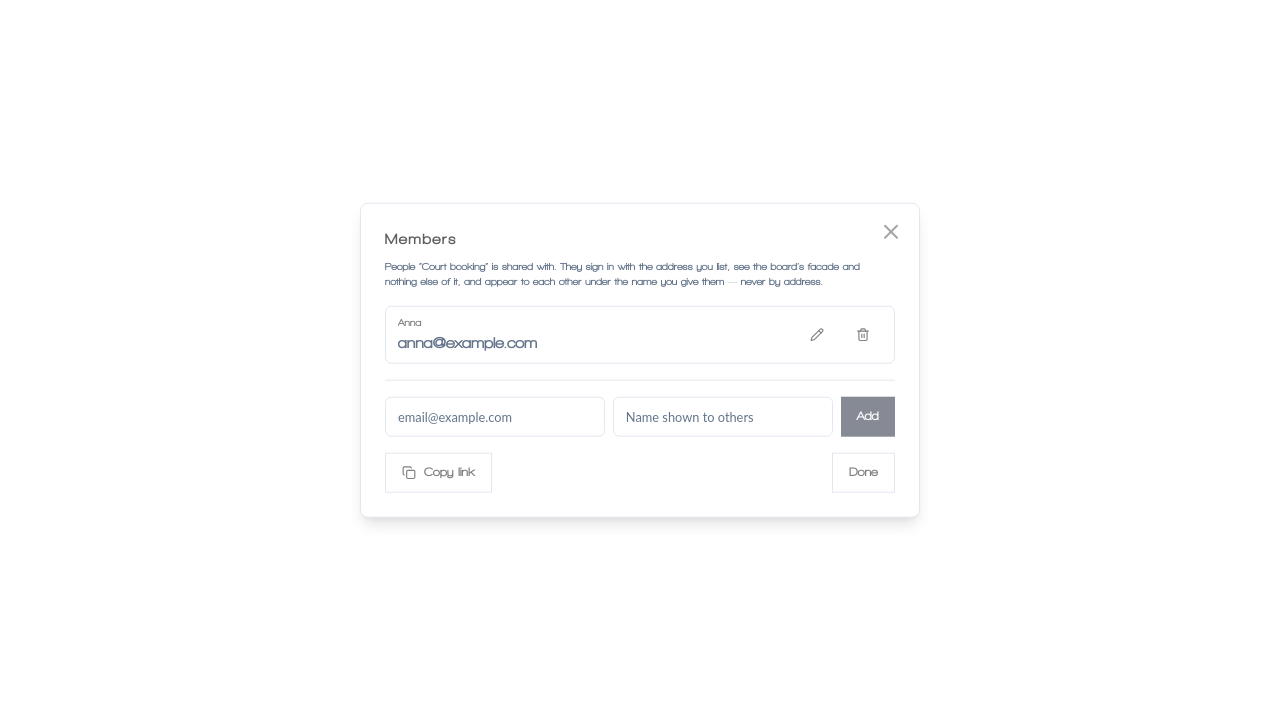
Scenario: the members dialog › stops sharing with somebody
Expected: the text "Anna" is shown, [398,317,421,328]
Click the button named "Remove anna@example.com": (863, 334) [844,316,882,352]
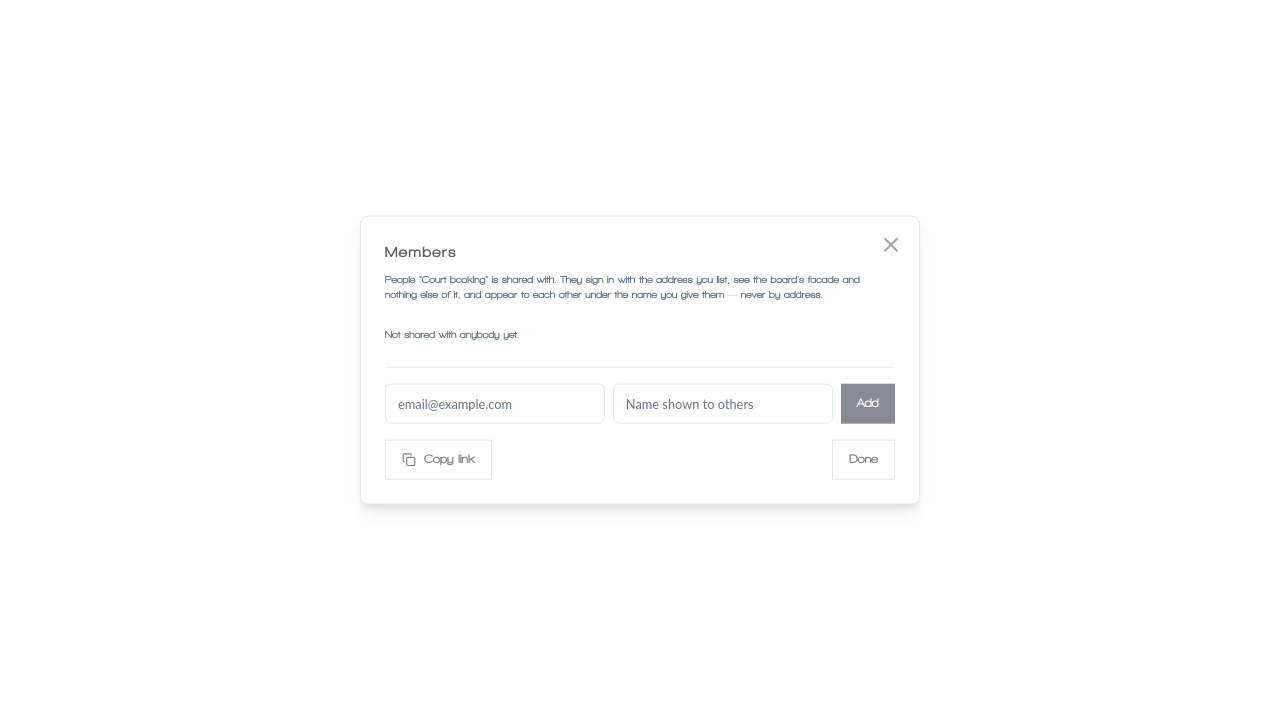
Now the text "Not shared with anybody yet." is shown, box [385,329,519,340]
